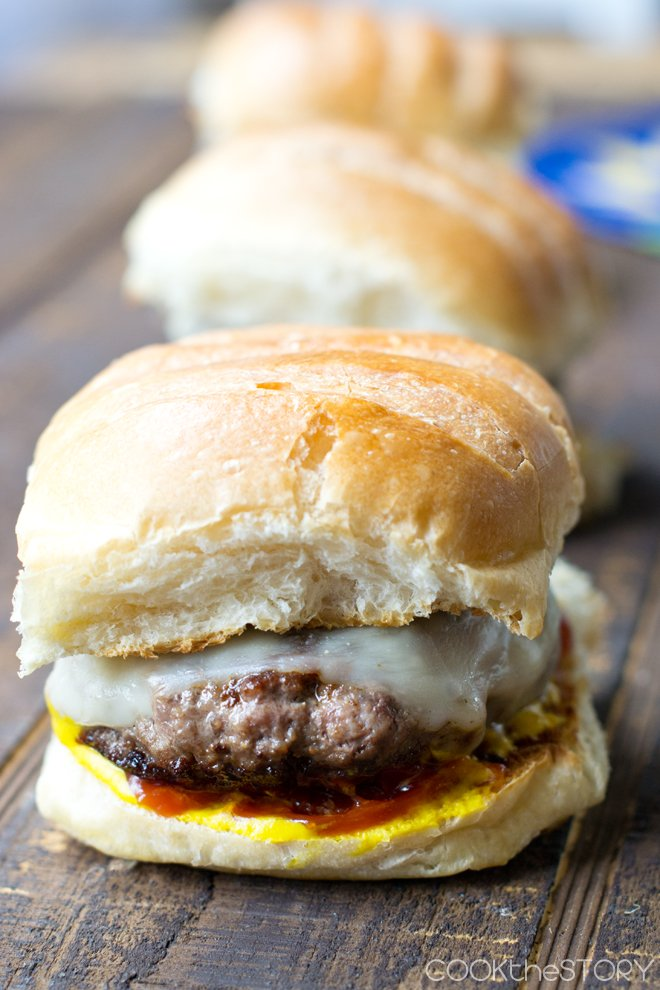hamburger_buns: (30, 363, 606, 893)
